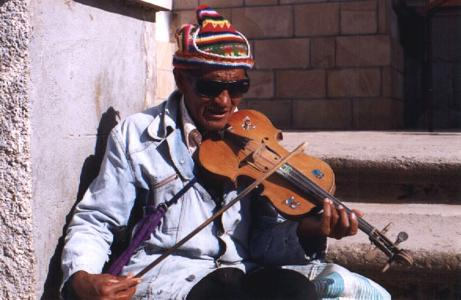person: (59, 6, 392, 300)
